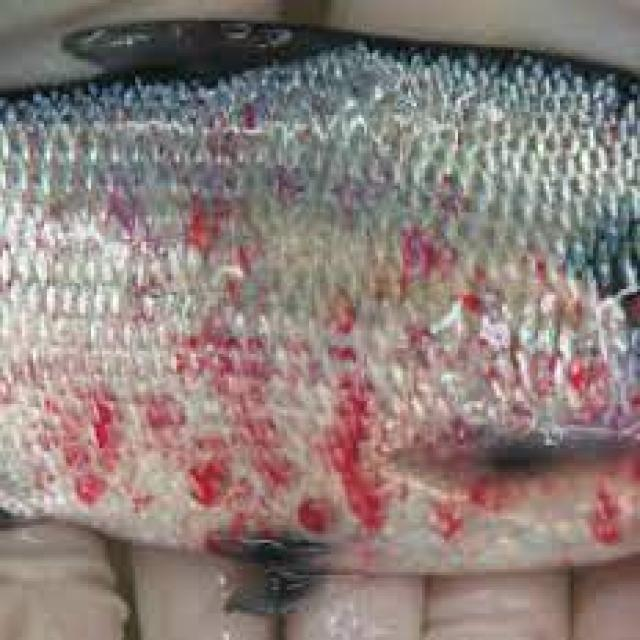EUS Disease: (0, 58, 635, 561)
